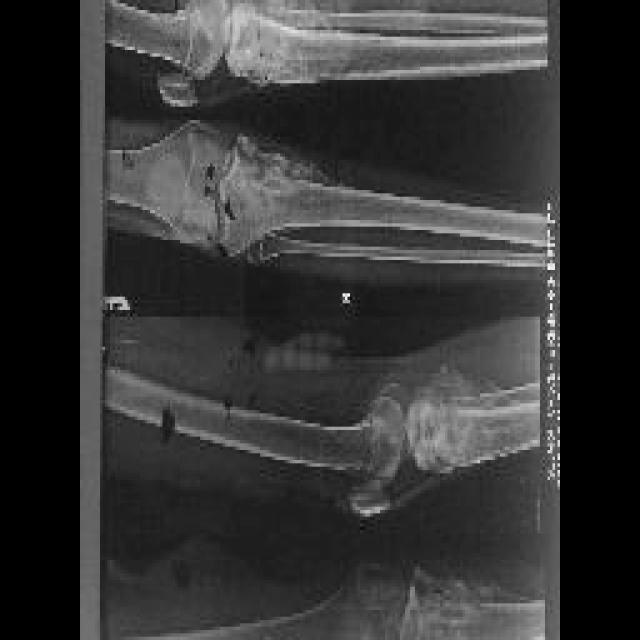bone-cancer: (244, 0, 336, 86), (427, 374, 525, 446), (413, 572, 533, 621), (239, 144, 334, 198)
